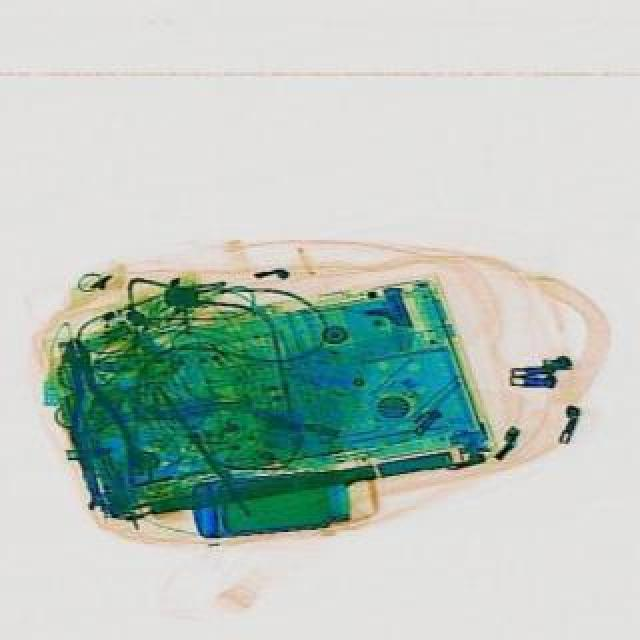scissors: (78, 466, 102, 510)
wrench: (42, 330, 142, 494)
